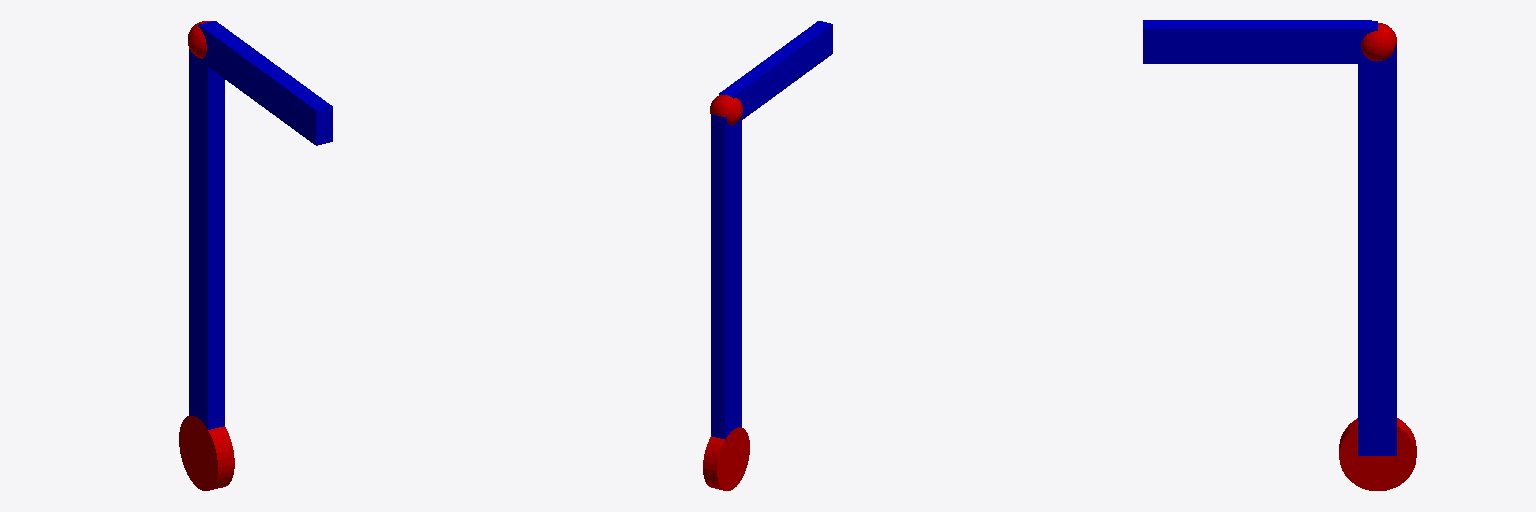
The robot description file, URDF, robot "TwoLinkStruct7890101261":
<?xml version="1.0"?>
<robot  name="TwoLinkStruct7890101261" >
 <material  name="blue" >
  <color  rgba="0 0 0.8 1.0" />
 </material>
 <material  name="red" >
  <color  rgba="0.8 0 0 1.0" />
 </material>
 <link  name="base_link" >
  <visual >
   <origin  rpy="0 1.5707 0"  xyz="0 0 0" />
   <material  name="red" />
   <geometry >
    <cylinder  length="0.05"  radius="0.1" />
   </geometry>
  </visual>
 </link>
 <joint  type="revolute"  name="joint1" >
  <parent  link="base_link" />
  <child  link="link1" />
  <origin  xyz="0 0 0"  rpy="0 0 0" />
  <axis  xyz="1 0 0" />
 </joint>
 <link  name="link1" >
  <inertial >
   <origin  rpy="0 0 0"  xyz="0 0 0.5830828526149922" />
   <mass  value="5.272342368309289" />
   <inertia  ixy="0.0"  iyy="0.0021968093201288705"  izz="0.5986052553625318"  ixz="0.0"  ixx="0.5986052553625318"  iyz="0.0" />
  </inertial>
  <visual >
   <origin  rpy="0 0 0"  xyz="0 0 0.5830828526149922" />
   <material  name="blue" />
   <geometry >
    <box  size="0.05 0.1 1.1661657052299843" />
   </geometry>
  </visual>
 </link>
 <joint  type="fixed"  name="joint-joint-1" >
  <parent  link="link1" />
  <child  link="joint-link-1" />
  <origin  xyz="0 0 1.1661657052299843"  rpy="1.5707 0 0" />
  <axis  xyz="1 0 0" />
 </joint>
 <link  name="joint-link-1" >
  <inertial >
   <origin  rpy="0 0 0"  xyz="0 0 0" />
   <mass  value="3.8162934381434934" />
   <inertia  ixy="0"  iyy="0"  izz="0"  ixz="0"  ixx="0"  iyz="0" />
  </inertial>
  <visual >
   <origin  rpy="0 0 0"  xyz="0 0 0" />
   <material  name="red" />
   <geometry >
    <sphere  radius="0.05" />
   </geometry>
  </visual>
 </link>
 <joint  type="revolute"  name="joint2" >
  <parent  link="link1" />
  <child  link="link2" />
  <origin  xyz="0 0 1.1661657052299843"  rpy="1.5707 0 0" />
  <axis  xyz="1 0 0" />
 </joint>
 <link  name="link2" >
  <inertial >
   <origin  rpy="0 0 0"  xyz="0 0 0.3023099488742083" />
   <mass  value="1.5011583588279116" />
   <inertia  ixy="0.0"  iyy="0.0021968093201288705"  izz="0.16171382147323043"  ixz="0.0"  ixx="0.16171382147323043"  iyz="0.0" />
  </inertial>
  <visual >
   <origin  rpy="0 0 0"  xyz="0 0 0.3023099488742083" />
   <material  name="blue" />
   <geometry >
    <box  size="0.05 0.1 0.6046198977484166" />
   </geometry>
  </visual>
 </link>
 <joint  type="fixed"  name="eef_joint" >
  <parent  link="link2" />
  <child  link="eef" />
  <origin  xyz="0 0 0.6046198977484166"  rpy="0 0 0" />
 </joint>
 <link  name="eef" >
  <inertial >
   <origin  rpy="0 0 0"  xyz="0 0 0" />
   <mass  value="1" />
   <inertia  ixy="0"  iyy="0"  izz="0"  ixz="0"  ixx="0"  iyz="0" />
  </inertial>
 </link>
 <transmission  name="motor1" >
  <type  xmltext="SimpleTransmission" >
   SimpleTransmission
  </type>
  <actuator  name="motor1" >
   <mechanicalreduction  xmltext="1" >
    1
   </mechanicalreduction>
  </actuator>
  <joint  name="joint1" />
 </transmission>
 <transmission  name="motor2" >
  <type  xmltext="SimpleTransmission" >
   SimpleTransmission
  </type>
  <actuator  name="motor2" >
   <mechanicalreduction  xmltext="1" >
    1
   </mechanicalreduction>
  </actuator>
  <joint  name="joint2" />
 </transmission>
</robot>

<!-- {'carti': array([-0.1 ,  0.14,  0.85]), 'cartd': array([-0.1 ,  0.32,  1.29]), 'tau_mu': 0.46171634973262676, 'b0': 0.16915714589236883, 'Km': 0.0, 'k_velocity': 0.01, 'tau_max_m': 5.0, 'omega_max_m': 7126.462974009954, 'gear_ratio': 2.2298938338033927, 'Kp': 88.84178320465139, 'Kd': 0.0, 'm_m': 3.8162934381434934, 'l1': 1.1661657052299843, 'l2': 0.6046198977484166, 'k1': 2041.2816245215145, 'k2': 379000000.0, 'k3': 67740943.29362506}-->

--- Facts derived from the render (not from the file) ---
Views: 3 orthographic renders of the robot side by side, from view 1: azimuth 30°, elevation 25°; view 2: azimuth 150°, elevation 25°; view 3: azimuth 270°, elevation 25°.
Model TwoLinkStruct7890101261 with 5 links and 4 joints (2 revolute, 2 fixed), rooted at base_link, posed every joint at zero.
Visible links, largest first — view 1: link1, link2, base_link; view 2: link1, link2, base_link, joint-link-1; view 3: link1, link2, base_link, joint-link-1.
Boxes of the visible links, left/top/right/bottom form: link1: left=189, top=49, right=224, bottom=429; link2: left=198, top=21, right=332, bottom=145; base_link: left=179, top=416, right=234, bottom=490; link1: left=711, top=114, right=741, bottom=439; link2: left=719, top=21, right=832, bottom=125; base_link: left=703, top=427, right=749, bottom=490; joint-link-1: left=710, top=95, right=742, bottom=125; link1: left=1358, top=44, right=1396, bottom=455; link2: left=1143, top=20, right=1377, bottom=63; base_link: left=1339, top=418, right=1416, bottom=490; joint-link-1: left=1361, top=23, right=1396, bottom=60.
Size in the robot's own frame: 0.1 by 0.7046 by 1.32 metres.
Geometry: primitives only (box / cylinder / sphere), no mesh files.
